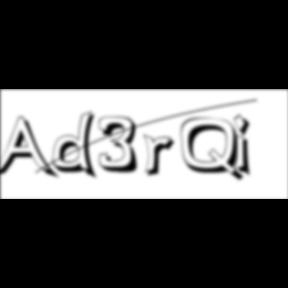3: (99, 116, 145, 176)
A: (0, 116, 60, 182)
Q: (181, 117, 247, 184)
d: (53, 110, 103, 182)
i: (234, 112, 258, 180)
r: (143, 134, 181, 180)
